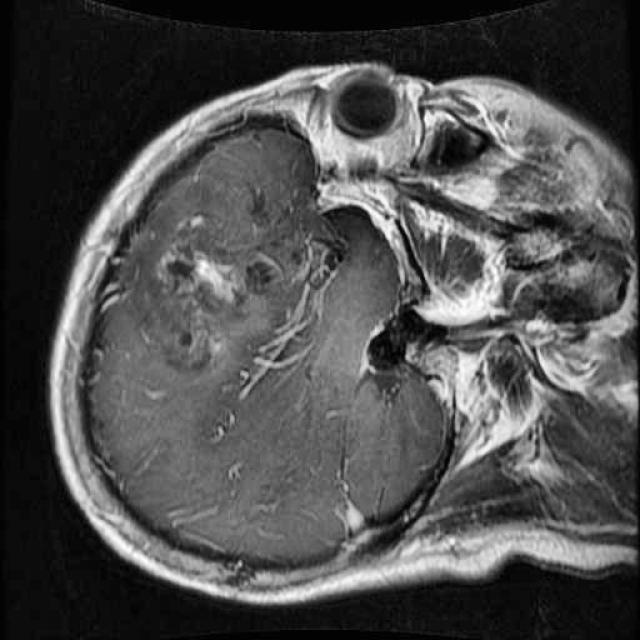Non-Tumor: (124, 214, 294, 380)
